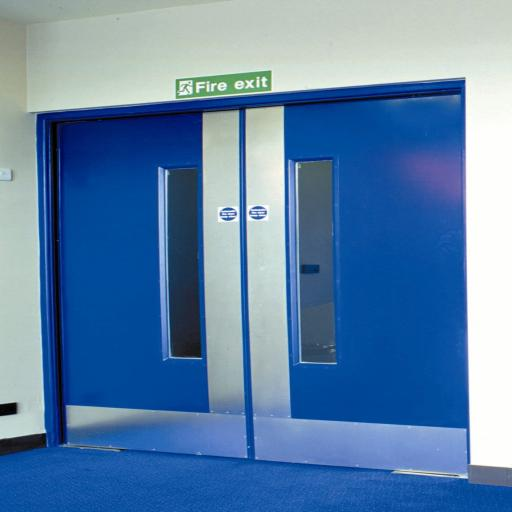Door: (48, 89, 469, 477)
